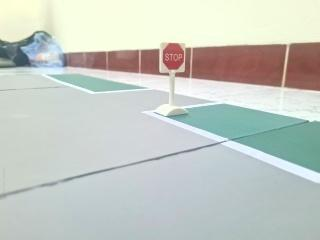stop: (155, 38, 191, 75)
